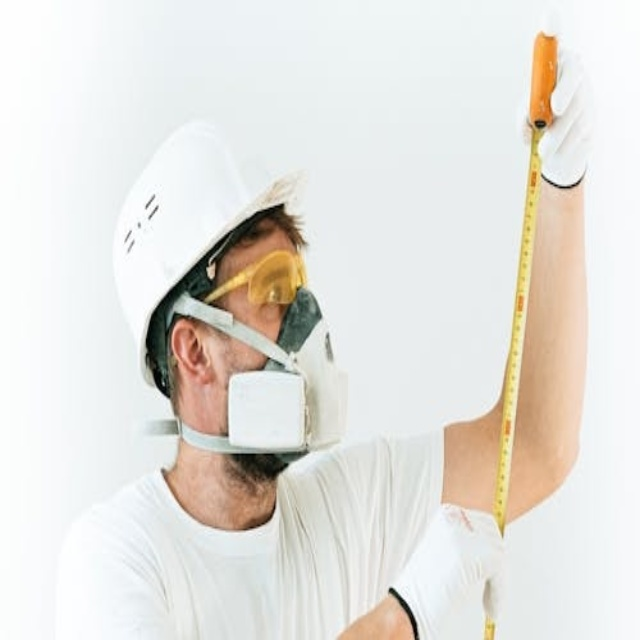Gafas: (201, 246, 309, 309)
Guantes: (389, 499, 509, 640), (520, 14, 595, 189)
Mascara: (162, 291, 347, 460)
